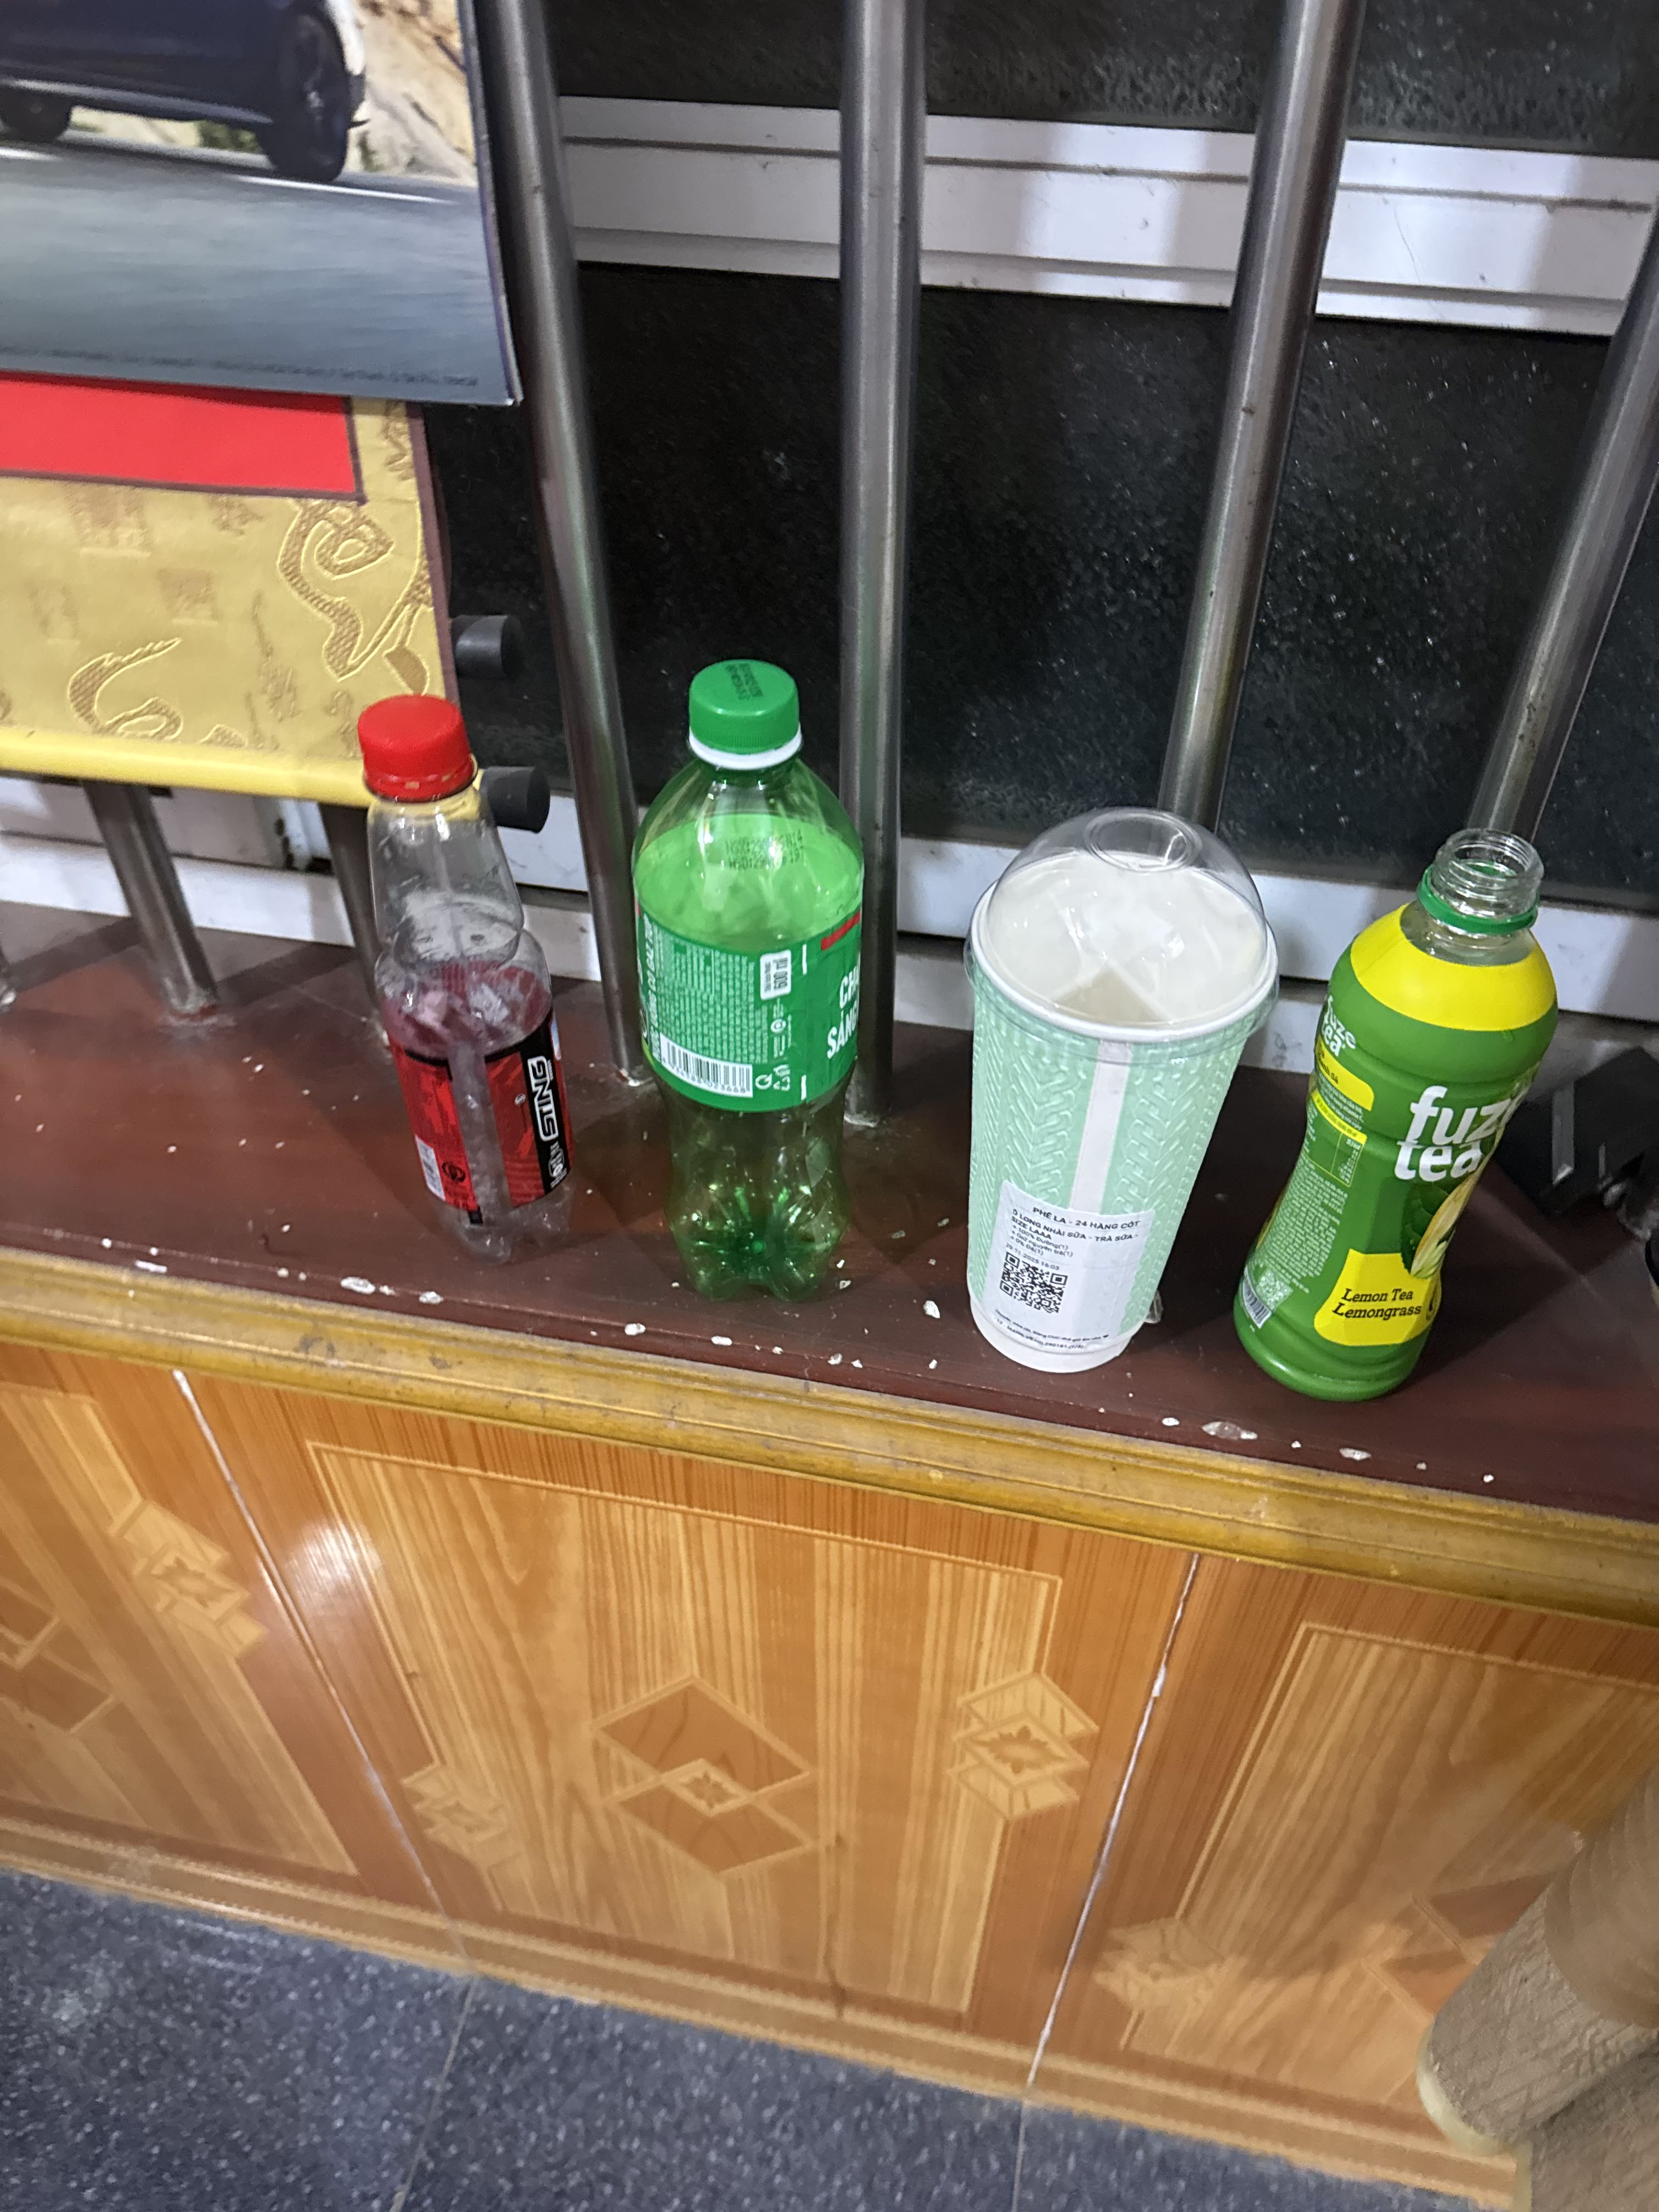2: (941, 758, 1293, 1402)
bottle: (1234, 801, 1601, 1440), (619, 644, 906, 1320), (338, 691, 610, 1291)
